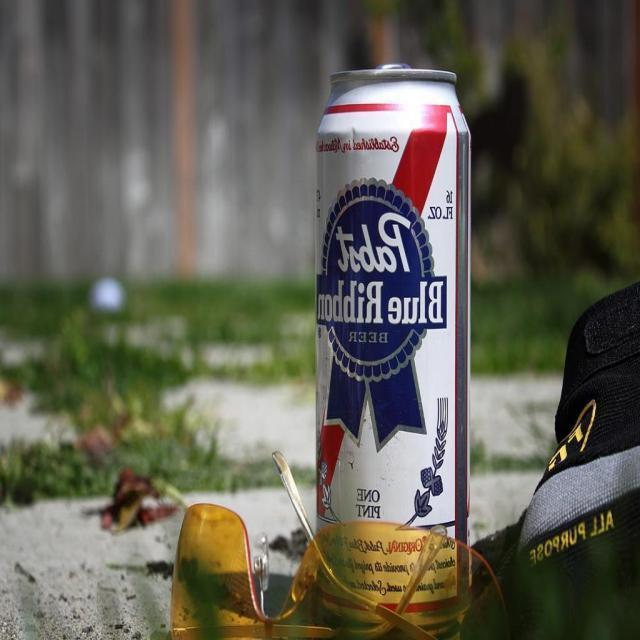metal: (311, 57, 476, 634)
